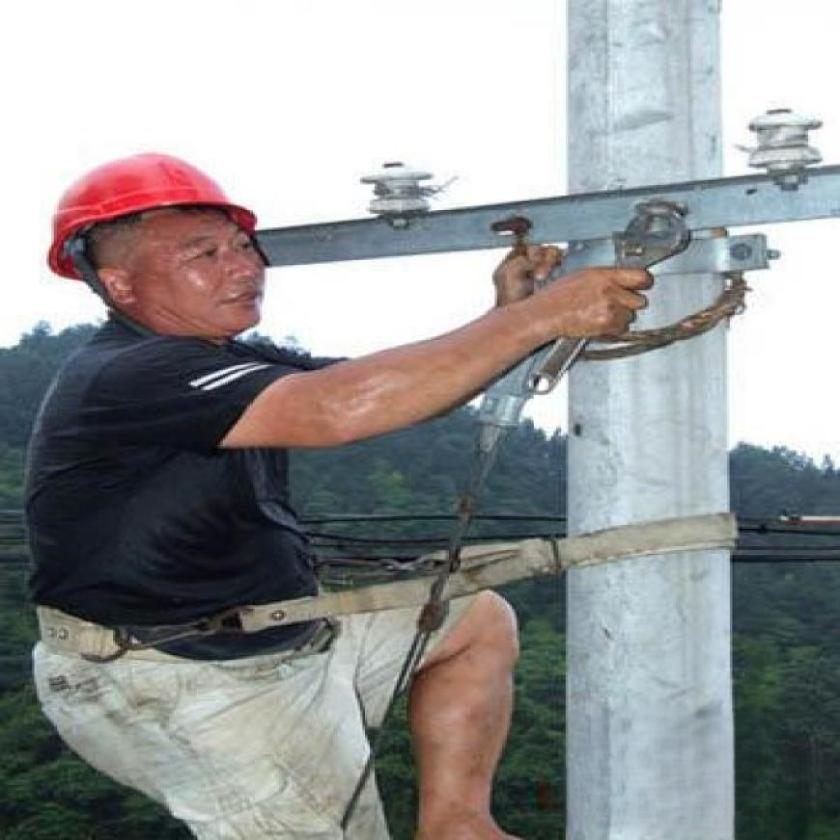Con_casco: (51, 112, 268, 359)
